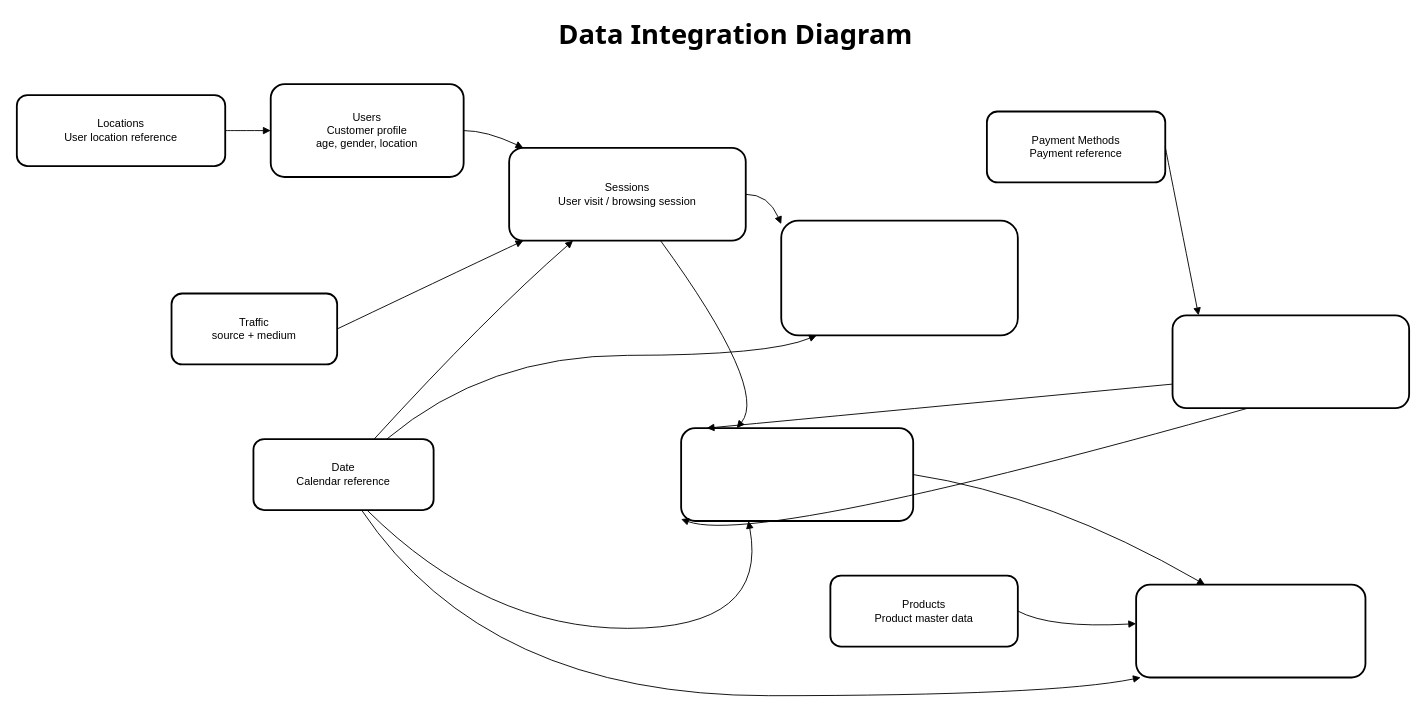
Some shapes in this 1425 by 712 pixel diagram are drawn without their labels. Each missing label, with the centre of its shape:
"Events productview, addtocart, checkout, complete, cancel" belongs at (899,277).
"Transaction Items Product-level order details qty, price, amount" belongs at (1250,630).
"Transactions Order-level data status, amount, timestamp" belongs at (797,474).
"Vouchers Promotion / voucher reference" belongs at (1290,361).
